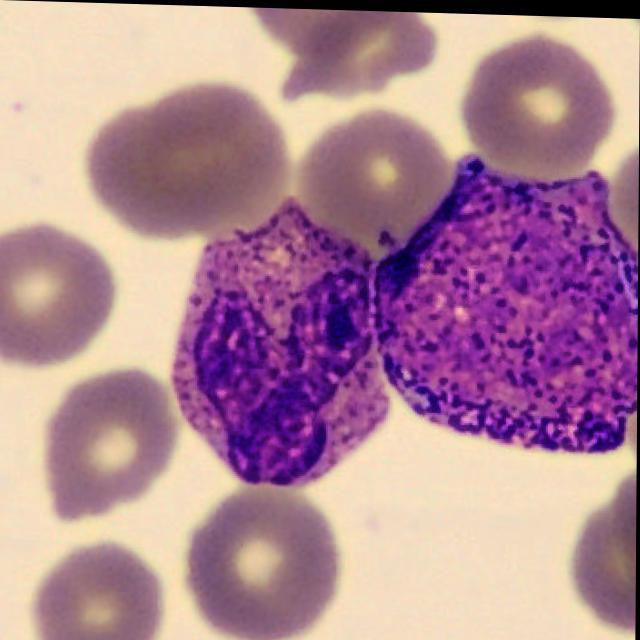Neutrofilo segmentado: (172, 195, 390, 483)
Promielocito: (377, 151, 639, 448)
